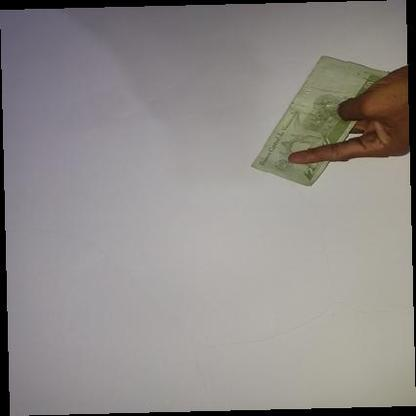fifty-back-vef: (250, 54, 392, 188)
